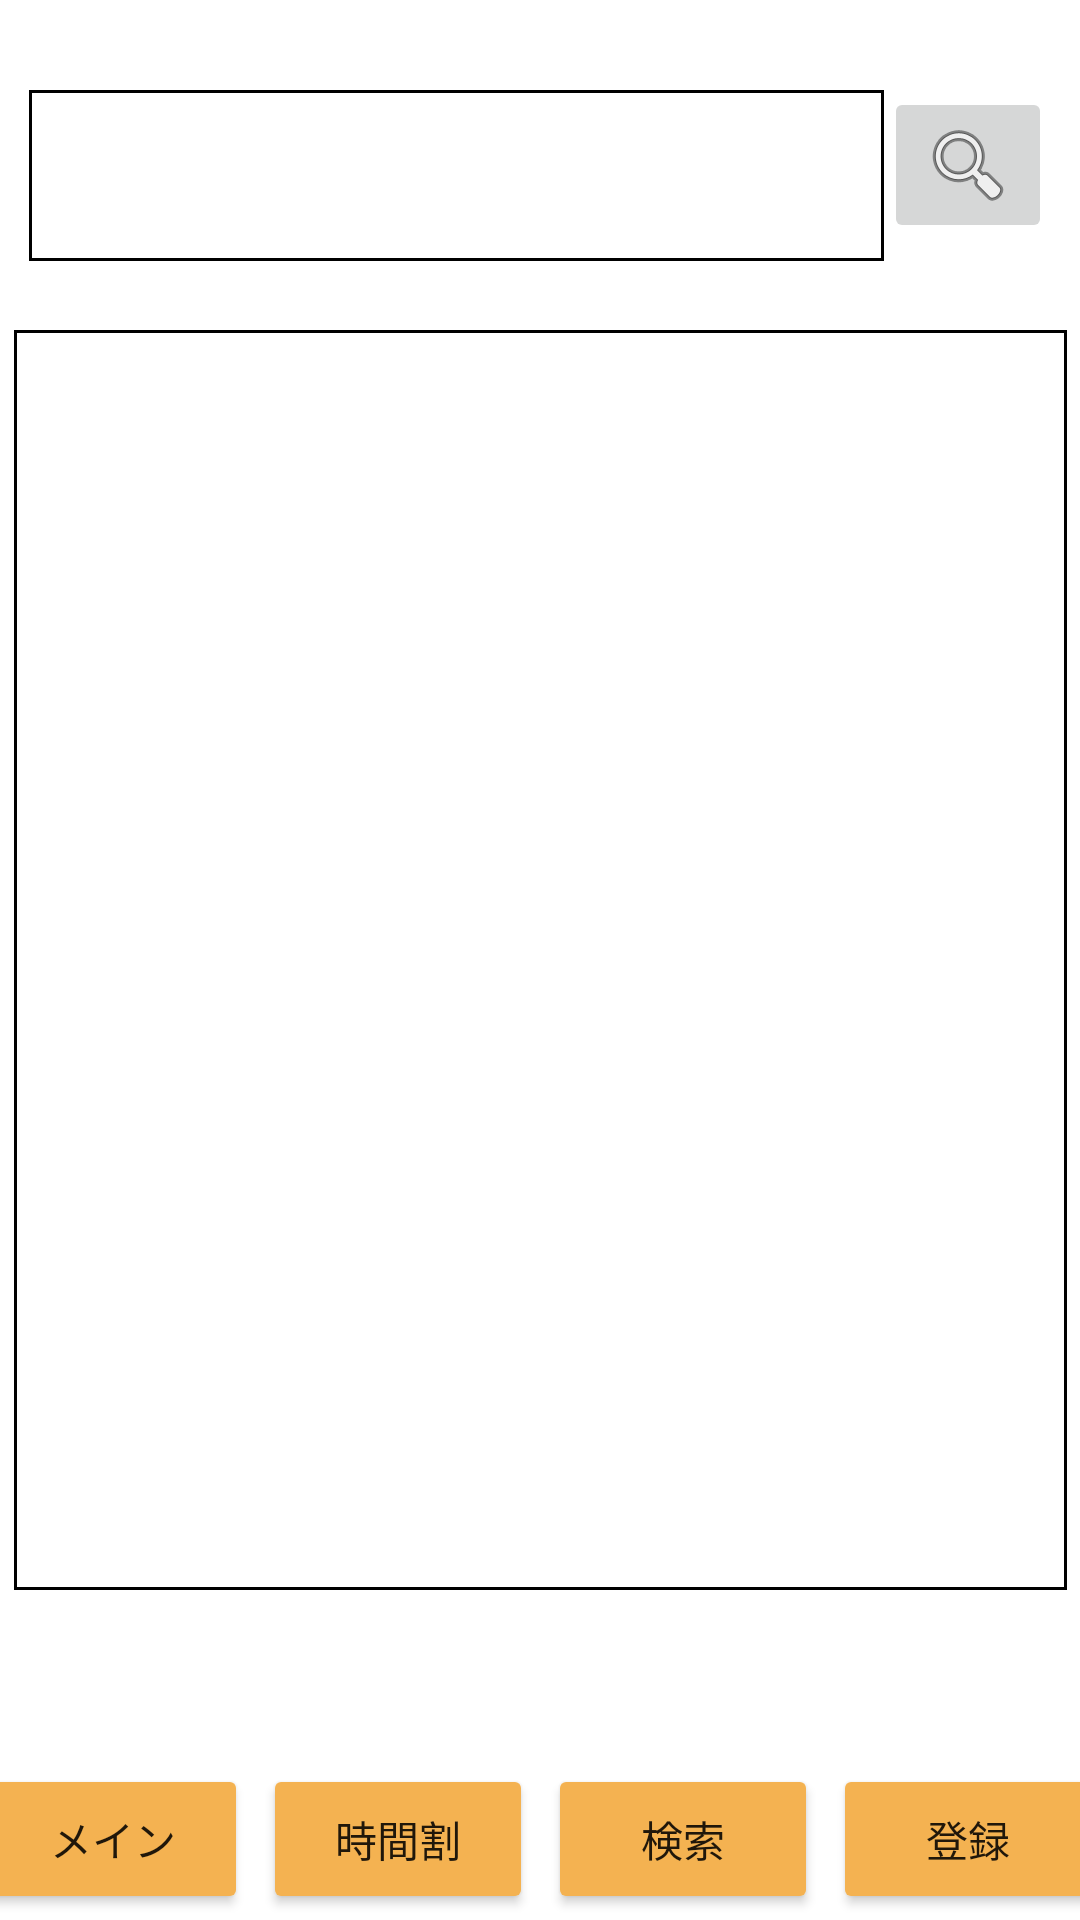

Locate icon controls on the screen. Image size 1080×1920, boxes as box=[x1, y1, x2, y2].
search: box=[896, 105, 1040, 225]
